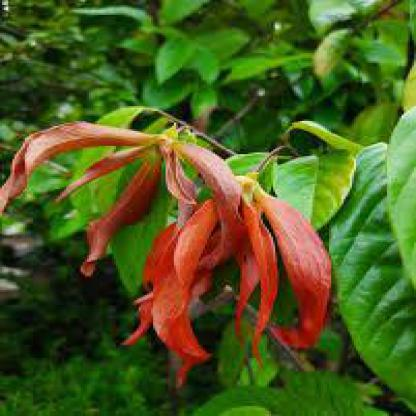Kenanga: (144, 162, 326, 318), (61, 99, 237, 231)
